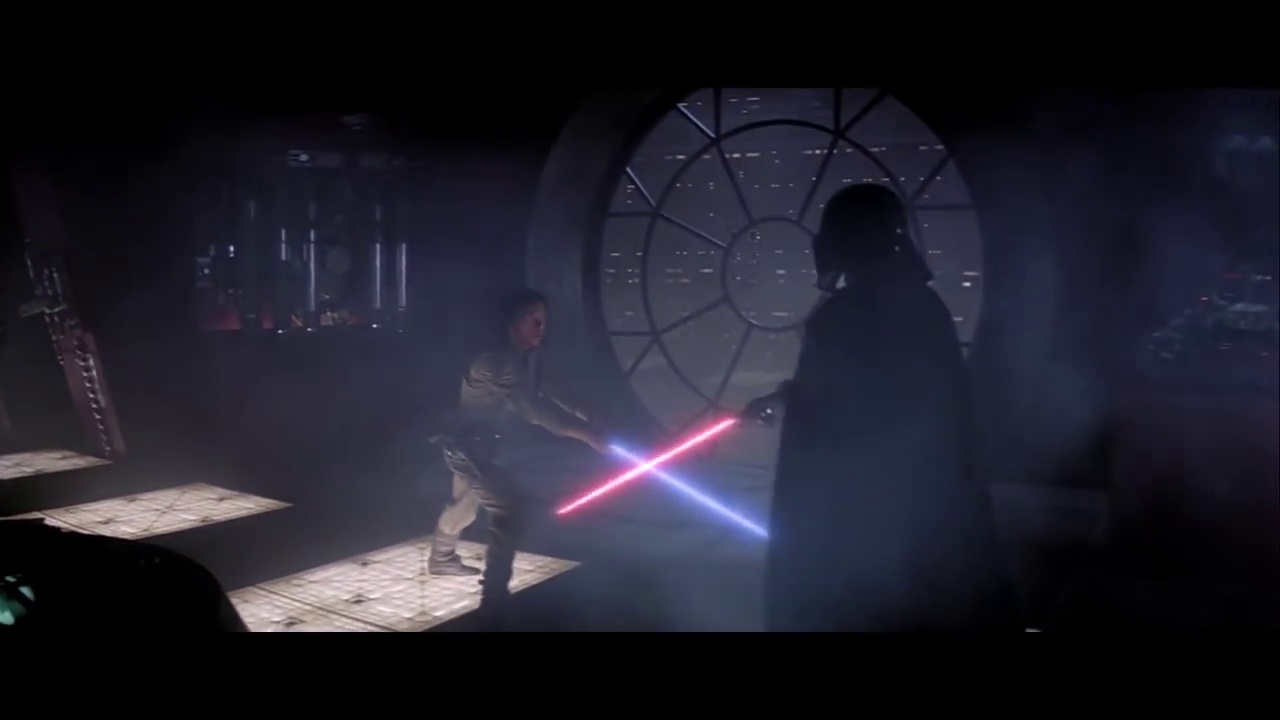lightsaber: (552, 412, 780, 554)
